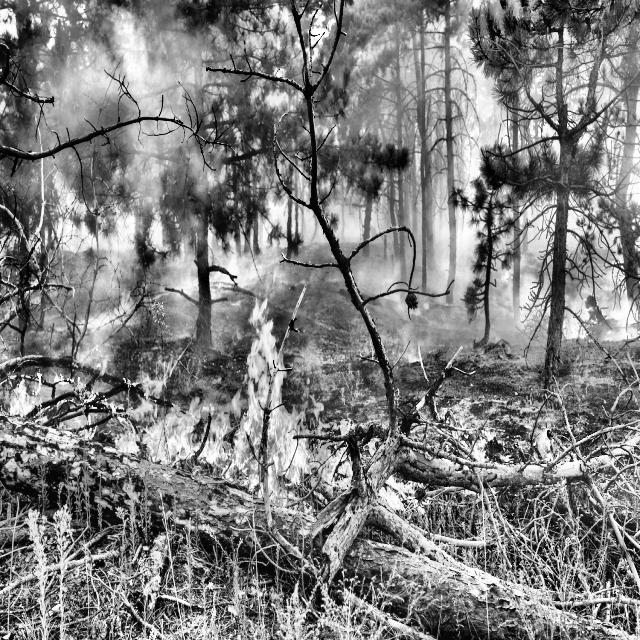fire: (8, 279, 595, 570)
